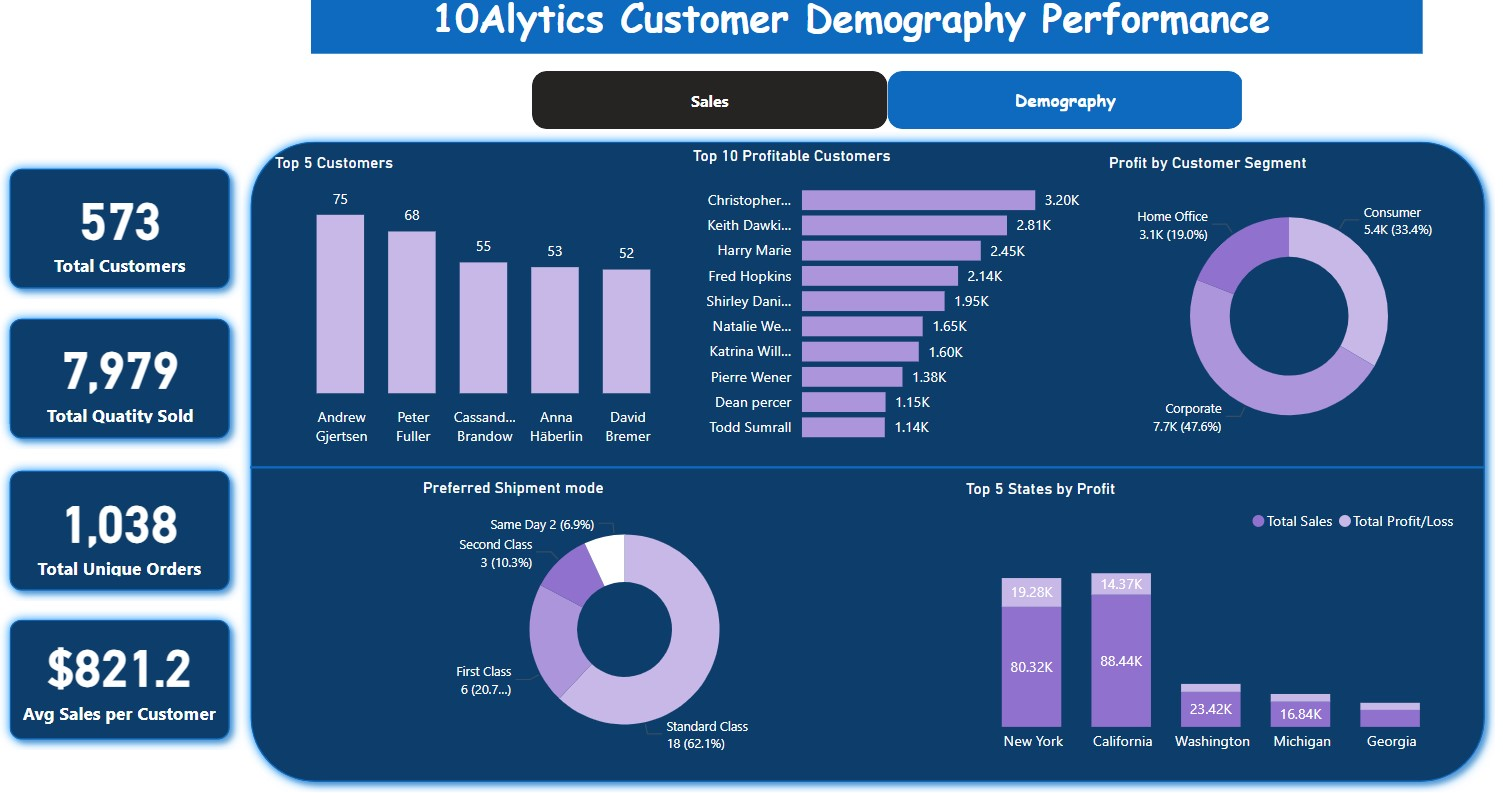

The page's visual inventory and layout, read from the dashboard file:
{"tool":"powerbi","page":{"name":"Demography","canvas":[1280,720],"ordinal":1},"visuals":[{"type":"shape","box":[203.6,143.2,1059.2,558.1],"z":0},{"type":"shape","box":[212,352.1,1041.7,150.8],"z":1000},{"type":"shape","box":[0,166.1,203.6,119],"z":2000},{"type":"shape","box":[0,292.9,203.6,119],"z":3000},{"type":"shape","box":[0,421.4,203.6,119],"z":4000},{"type":"shape","box":[0,546.5,203.6,119],"z":5000},{"type":"card","fields":{"Values":["Calculations.Average Sales per Customer"]},"box":[10.7,556.4,180.9,93.4],"z":6000},{"type":"card","fields":{"Values":["Calculations.Total Unique Orders"]},"box":[11.2,437.3,181.1,87.1],"z":7000},{"type":"clusteredBarChart","title":"Top 10 Profitable Customers","fields":{"Category":["Customer_DIM.Customer Name"],"Y":["Calculations.Total Profit/Loss"]},"box":[580.7,156.6,337.5,258.7],"z":8000},{"type":"donutChart","title":"Profit by Customer Segment","fields":{"Y":["Calculations.Total Profit/Loss"],"Series":["Customer_DIM.Segment"]},"box":[931.5,163,314,258.8],"z":9000},{"type":"textbox","box":[263.6,20.4,937.6,58.4],"z":10000},{"type":"card","fields":{"Values":["Calculations.Total Customers"]},"box":[11.7,179.9,179.9,91.4],"z":11000},{"type":"card","fields":{"Values":["Calculations.Total Quatity Sold"]},"box":[11.7,308.3,180.9,86.6],"z":12000},{"type":"clusteredColumnChart","title":"Top 5 Customers","fields":{"Y":["Calculations.Total Quatity Sold"],"Category":["Customer_DIM.Customer Name"]},"box":[227.6,162.4,353.1,252.9],"z":13000},{"type":"donutChart","title":"Preferred Shipment mode","fields":{"Y":["Calculations.Total Order"],"Category":["Order_DIM.Ship Mode"]},"box":[352.8,437.3,350.2,238.9],"z":14000},{"type":"columnChart","title":"Top 5 States by Profit","fields":{"Category":["Location_DIM.State"],"Y":["Calculations.Total Sales","Calculations.Total Profit/Loss"]},"box":[811.2,437.7,426,238.3],"z":15000},{"type":"bookmarkNavigator","box":[449.3,92.9,599.8,49.8],"z":16000}]}

Visuals, with their boxes on the page's 1280x720 design canvas (x1, y1, x2, y2). These are canvas units, not pixel positions in the 1503x793 screenshot, which may show the page scaled, cropped or inside an application window:
shape: <region>204, 143, 1263, 701</region>
shape: <region>212, 352, 1254, 503</region>
shape: <region>0, 166, 204, 285</region>
shape: <region>0, 293, 204, 412</region>
shape: <region>0, 421, 204, 540</region>
shape: <region>0, 546, 204, 666</region>
card - Calculations.Average Sales per Customer: <region>11, 556, 192, 650</region>
card - Calculations.Total Unique Orders: <region>11, 437, 192, 524</region>
"Top 10 Profitable Customers" clusteredBarChart: <region>581, 157, 918, 415</region>
"Profit by Customer Segment" donutChart: <region>932, 163, 1246, 422</region>
textbox: <region>264, 20, 1201, 79</region>
card - Calculations.Total Customers: <region>12, 180, 192, 271</region>
card - Calculations.Total Quatity Sold: <region>12, 308, 193, 395</region>
"Top 5 Customers" clusteredColumnChart: <region>228, 162, 581, 415</region>
"Preferred Shipment mode" donutChart: <region>353, 437, 703, 676</region>
"Top 5 States by Profit" columnChart: <region>811, 438, 1237, 676</region>
bookmarkNavigator: <region>449, 93, 1049, 143</region>
